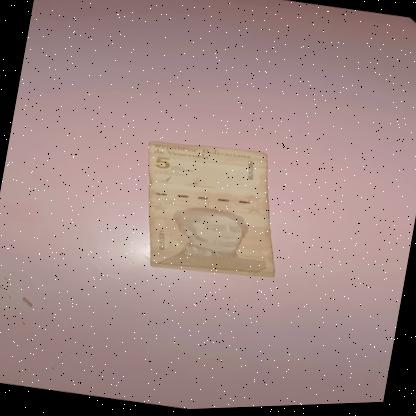five-front-vef: (128, 133, 296, 289)
